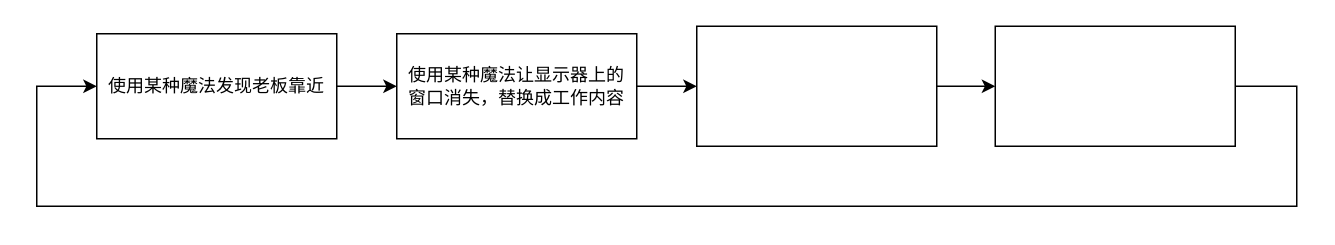
The diagram is 1335 pixels wide and 245 high, and some of its shapes have lost their labels. The shapes that lost their labels are listed below. From the top down, each one's centre as x and y in pixels, then its label:
point (816, 85): 确认老板的离开
point (1114, 85): 让显示器上的工作内容替换为摸鱼内容
